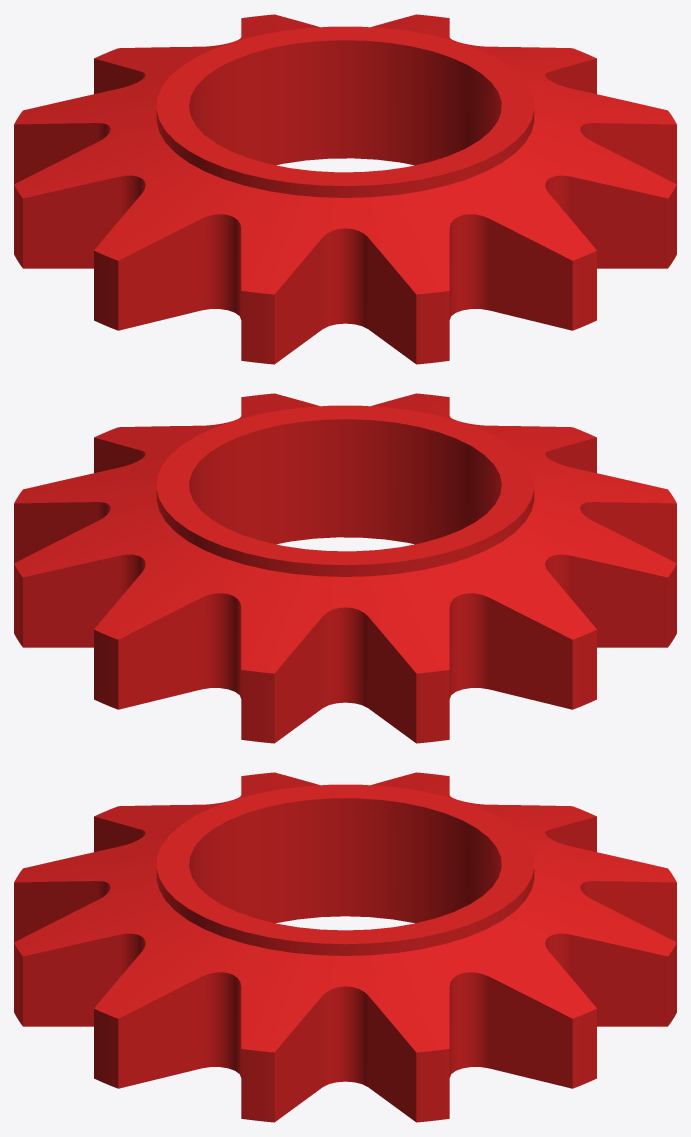
File: NIT.gltf
3 renders of one model, top to bottom at view 1: azimuth 30°, elevation 25°; view 2: azimuth 150°, elevation 25°; view 3: azimuth 270°, elevation 25°, orthographic.
Visible parts, largest first — view 1: Solid1; view 2: Solid1; view 3: Solid1.
Part boxes in pixels (x1=…): Solid1: x1=14, y1=14, x2=676, y2=364; Solid1: x1=14, y1=393, x2=676, y2=743; Solid1: x1=14, y1=772, x2=676, y2=1122.
Size of the model in its own units: 0.0508 by 0.01 by 0.0508.
